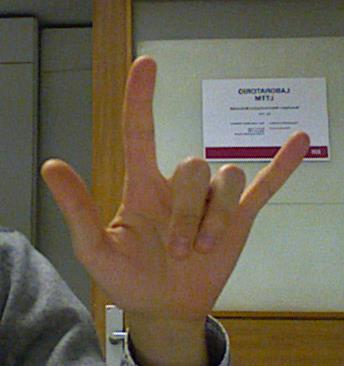back: (42, 56, 315, 322)
